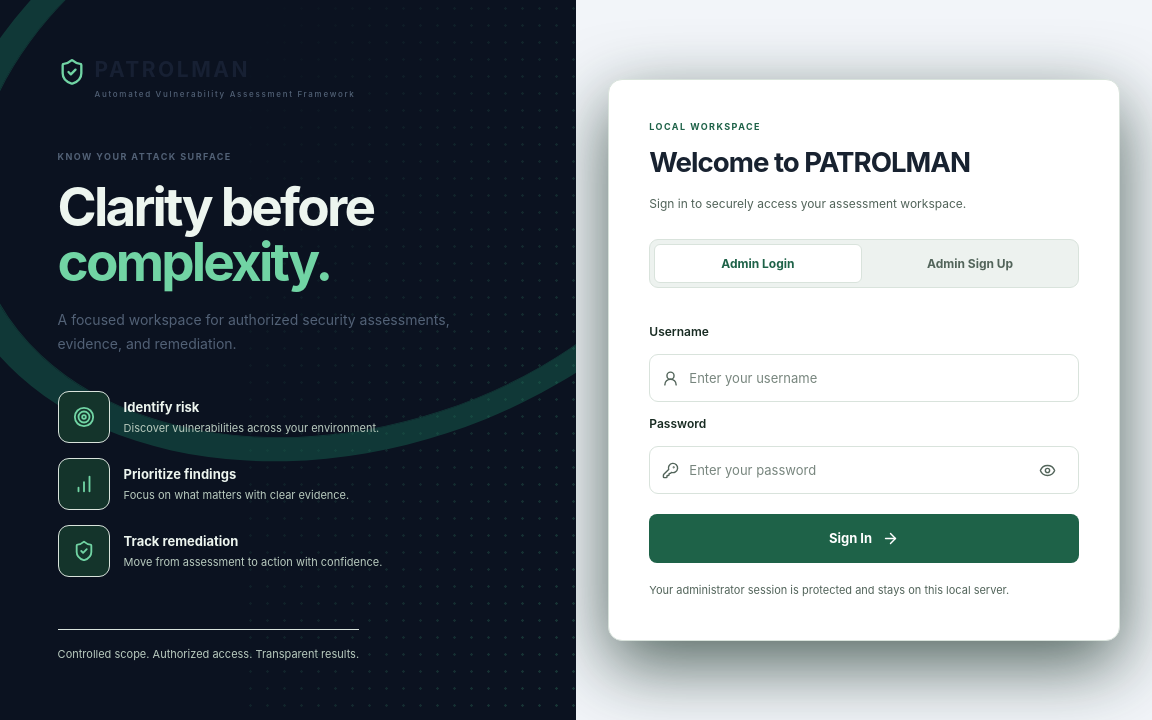
Scenario: establishes a server session and logs out without browser-held credentials
Type "local-admin" into the field labelled "Username".
click(878, 378); type("local-admin")  # box [689, 357, 1066, 400]
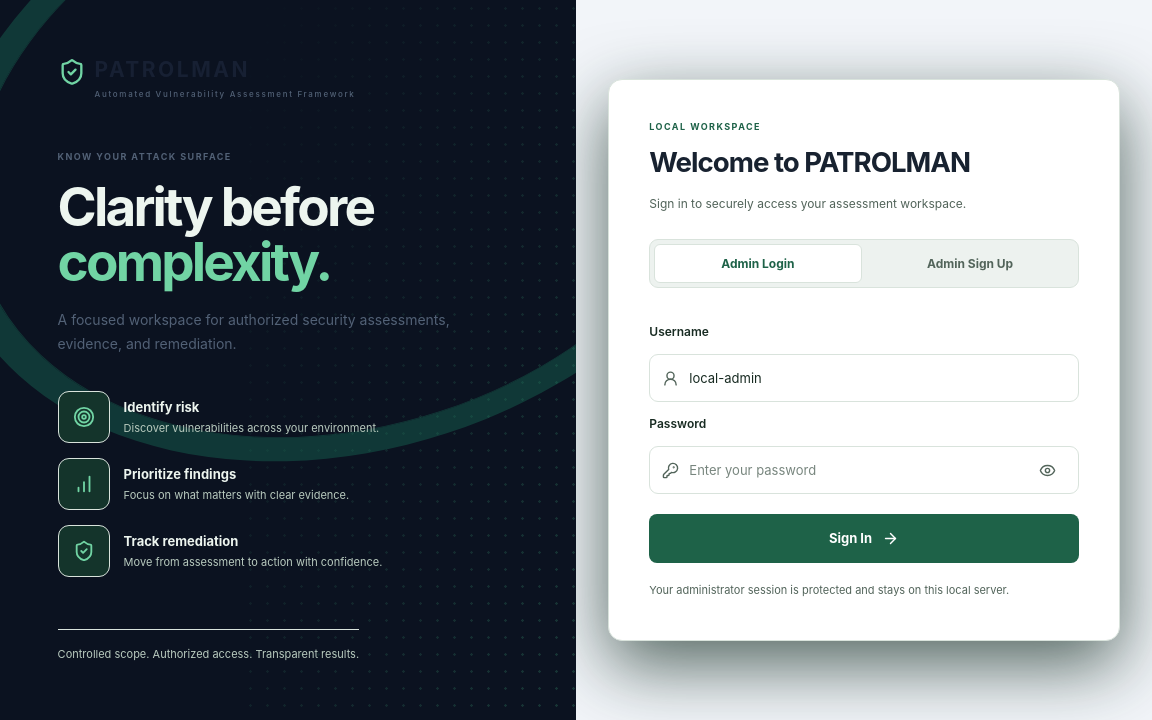
Type "synthetic-password" into the password field labelled "Password".
click(856, 470); type("synthetic-password")  # box [689, 449, 1024, 492]
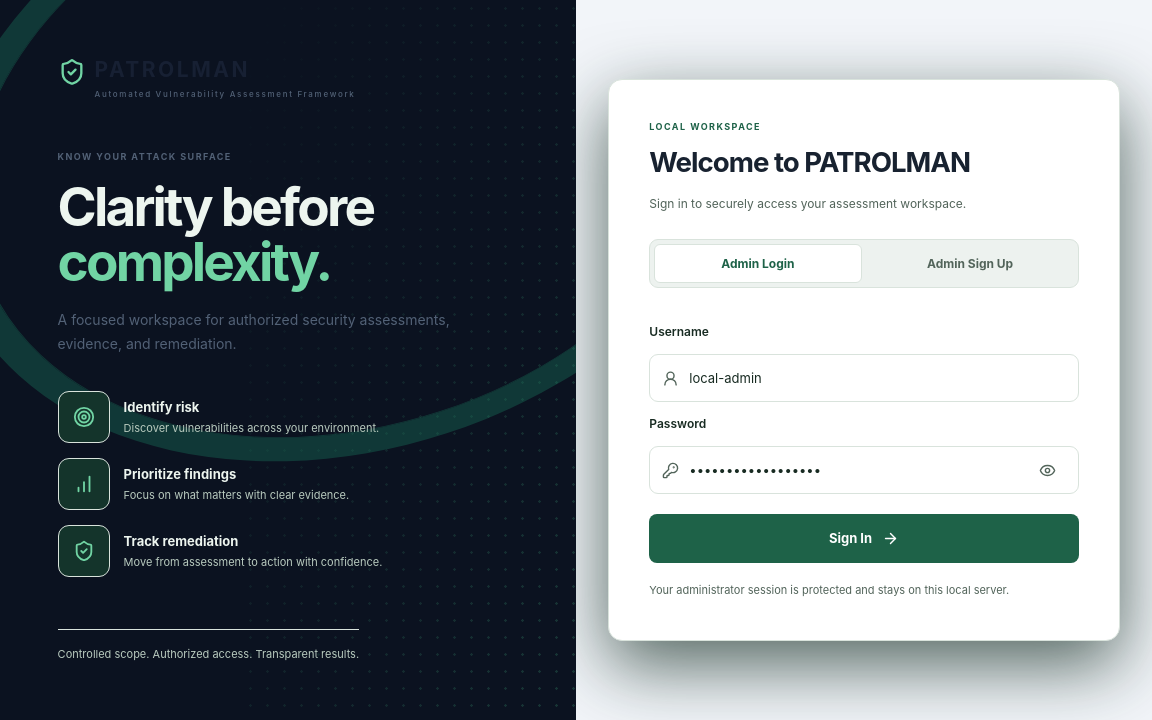
Click the button "Sign In".
click(864, 539)  # box [649, 514, 1079, 563]
(page scrolled)
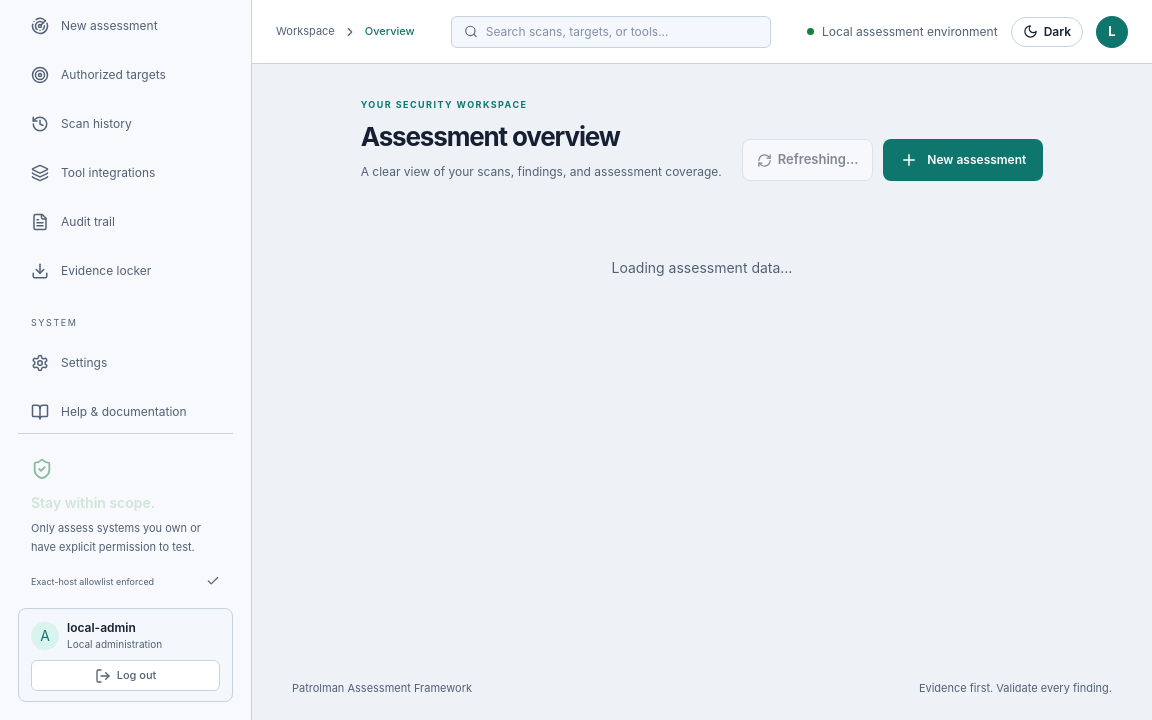
Expected: the heading "Assessment overview" is shown, [361, 120, 620, 152]
Click the button with aria-label "Disconnect workspace".
click(126, 676)  # box [31, 660, 220, 691]
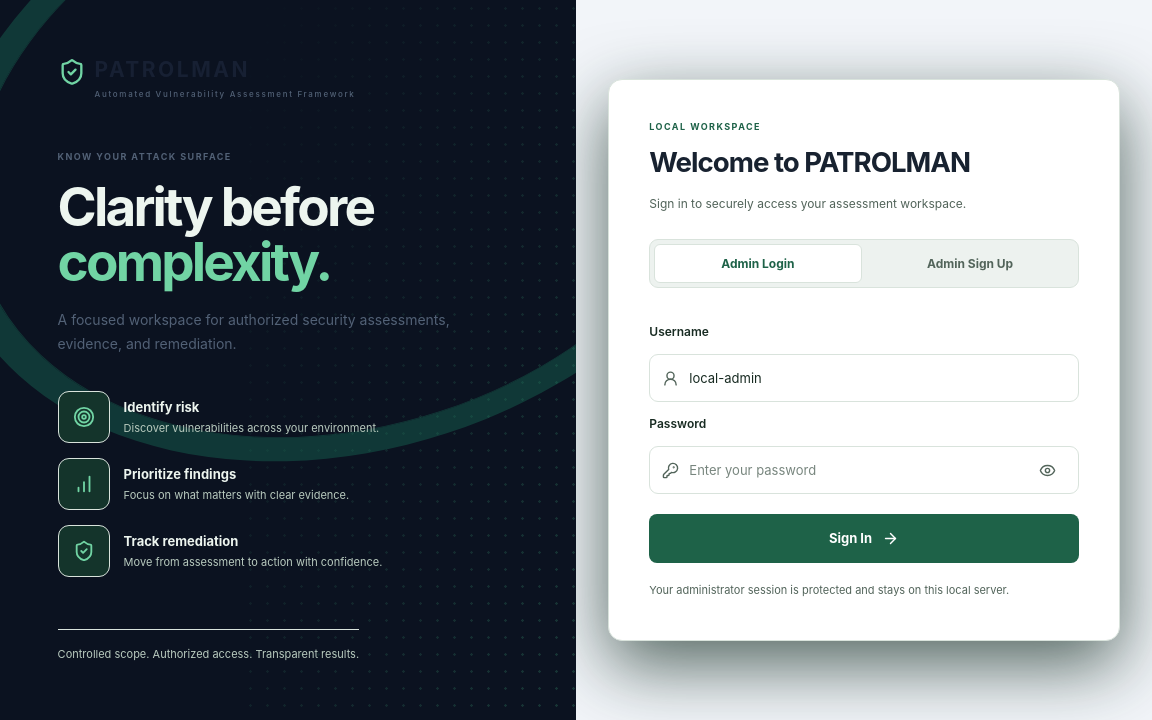
Expected: the heading "Welcome to PATROLMAN" is shown, [649, 146, 970, 180]
